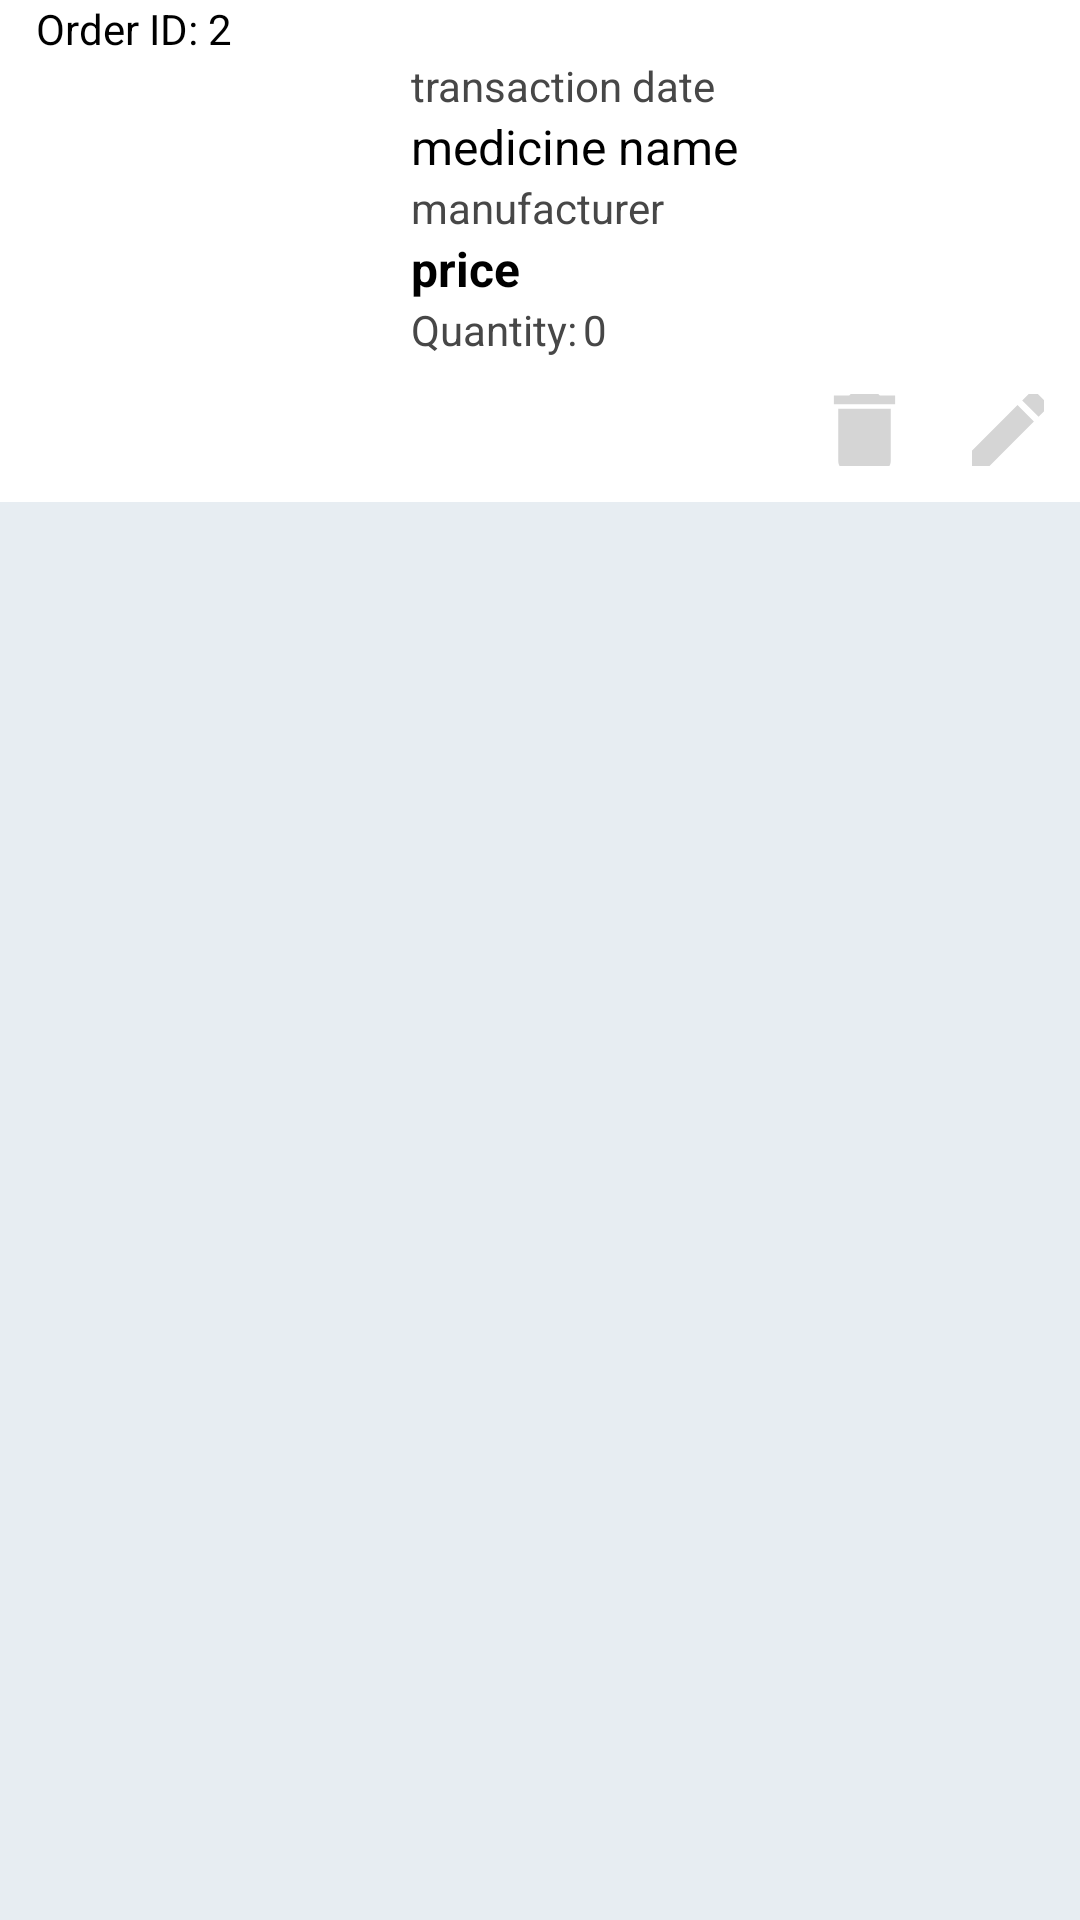

Named icons in this screenshot (1080x1920) and their centers, (x,y):
edit: (1008,430)
